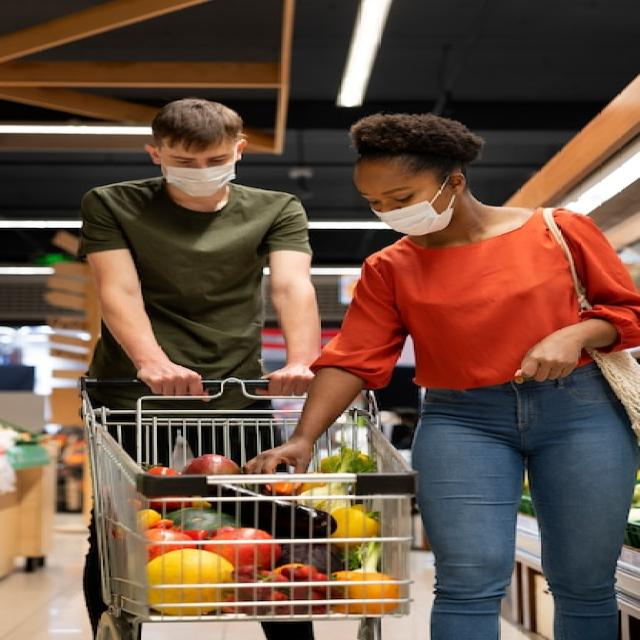Person: (243, 114, 640, 640), (75, 97, 321, 398)
